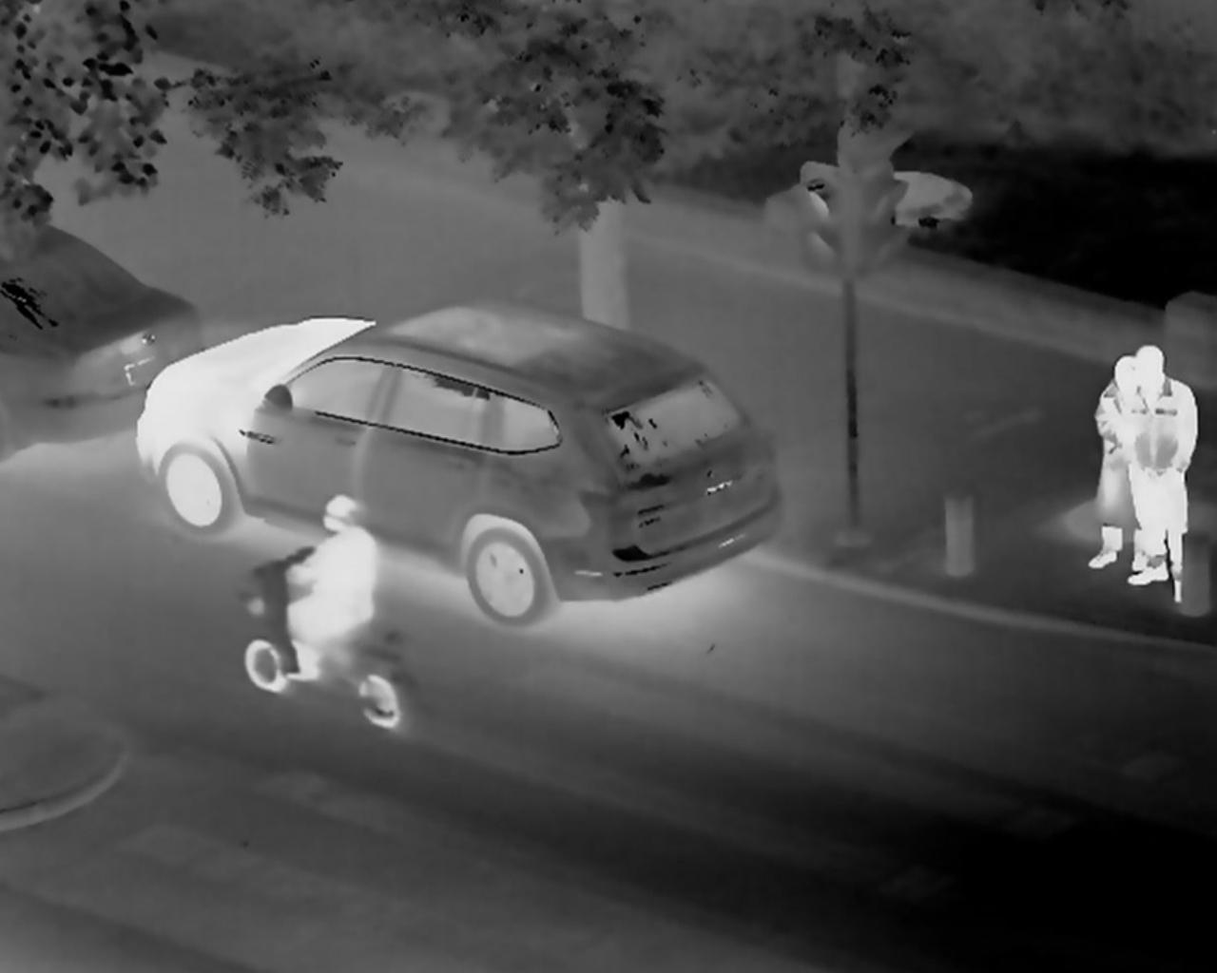person: (277, 486, 385, 685), (1138, 352, 1212, 599), (1092, 352, 1132, 557)
